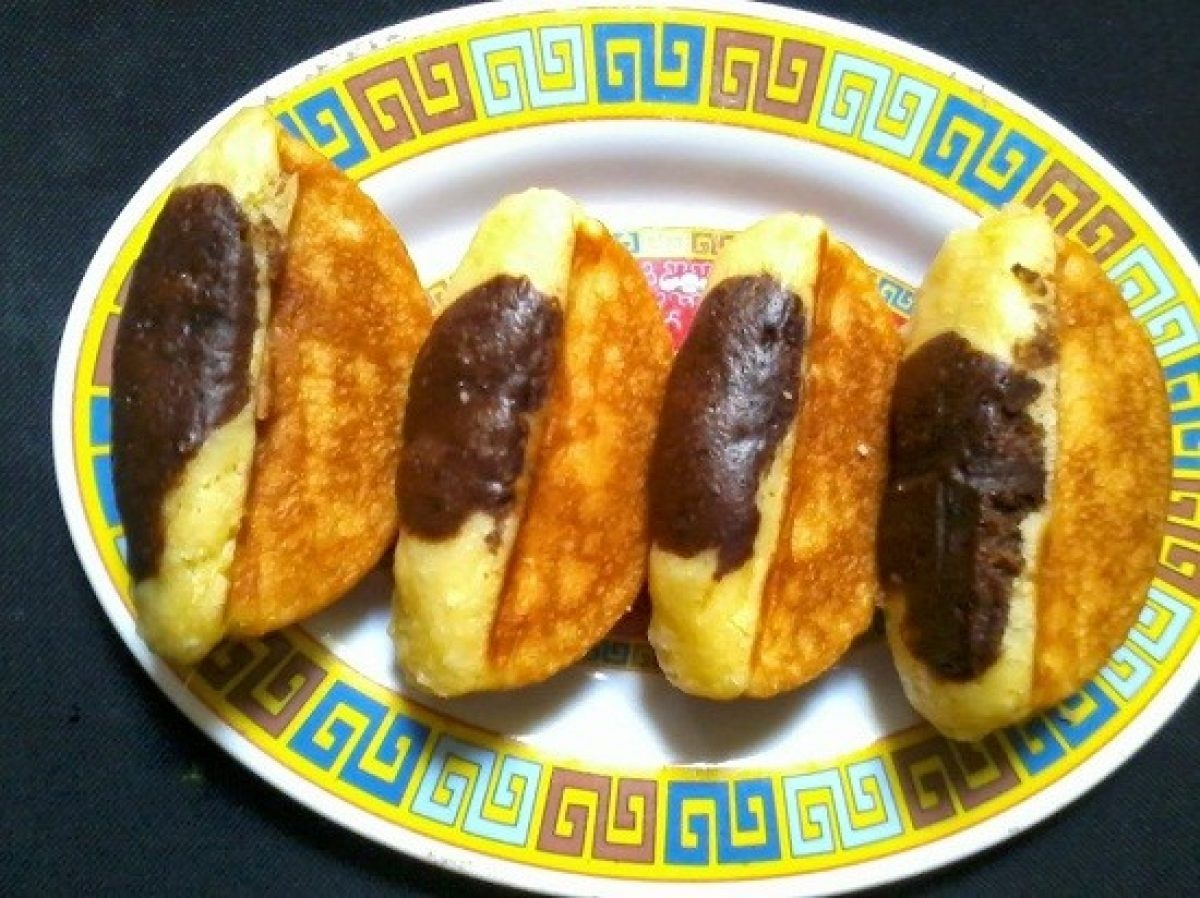pukis: (59, 133, 432, 701), (349, 168, 664, 723), (605, 179, 902, 765), (910, 174, 1200, 760)
